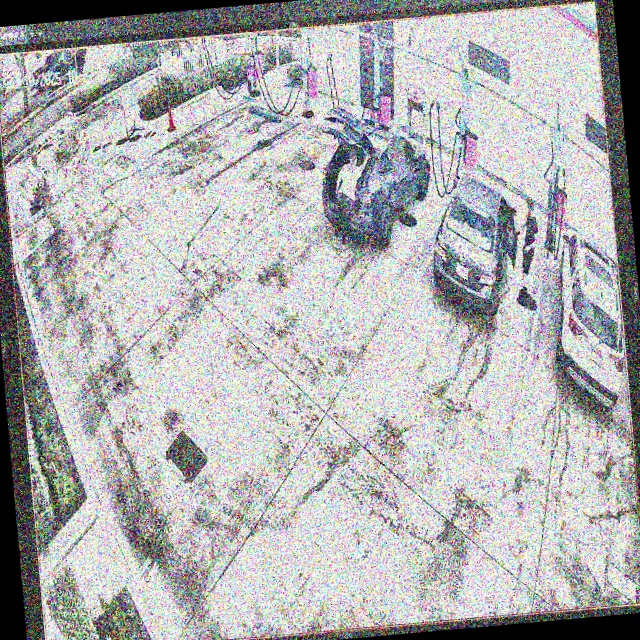Car: (315, 101, 436, 246), (425, 169, 523, 306)
